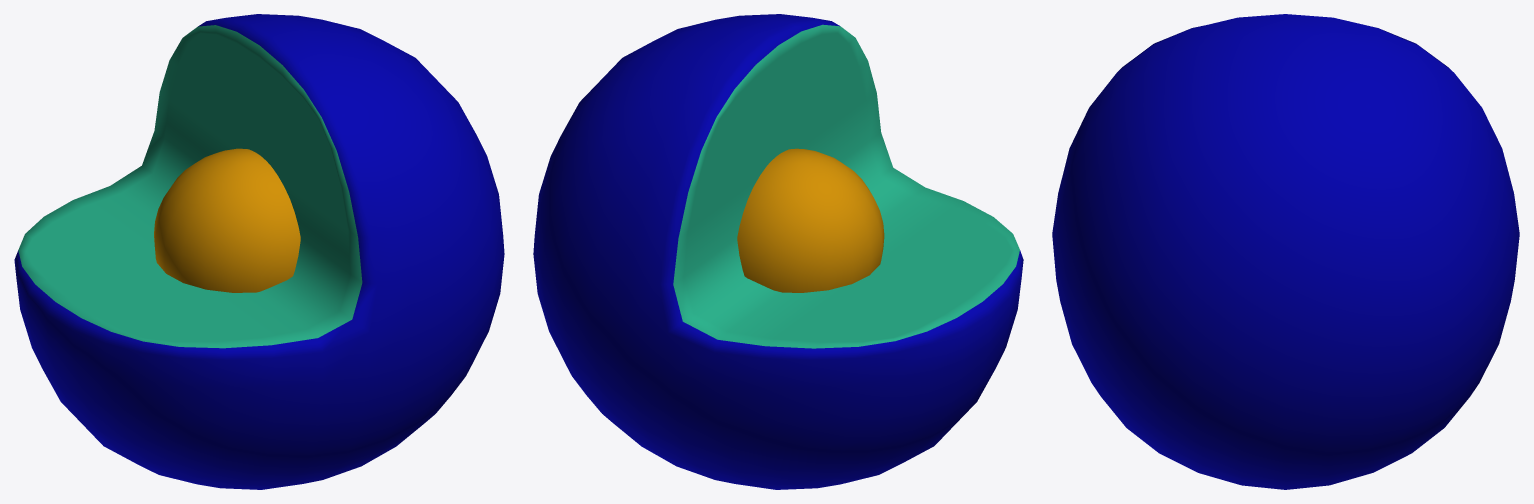
The model's file is Nucleus.fbx.
3 views of the same model, side by side, from view 1: azimuth 30°, elevation 25°; view 2: azimuth 150°, elevation 25°; view 3: azimuth 270°, elevation 25° (orthographic). The views are drawn at different scales.
Parts seen in each view (by area): view 1: pCube1, pSphere1; view 2: pCube1, pSphere1; view 3: pCube1.
Part boxes in pixels (<box>): pCube1: <box>14,14,504,489</box>; pSphere1: <box>154,148,300,292</box>; pCube1: <box>533,14,1023,489</box>; pSphere1: <box>737,148,884,292</box>; pCube1: <box>1052,14,1519,489</box>.
Bounding box in the file's own units: 10.74 × 10.28 × 9.62.
